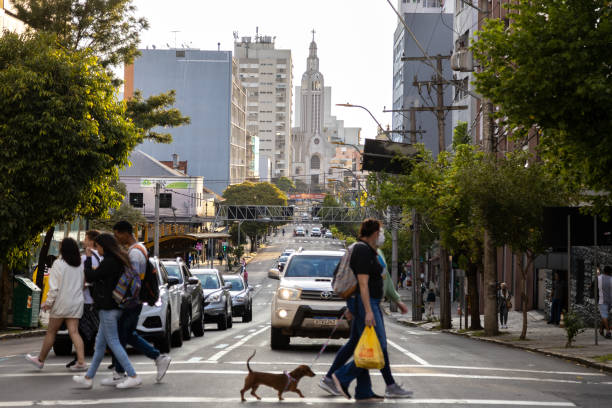kopek: (225, 338, 317, 408)
yaya: (78, 205, 180, 395), (327, 204, 424, 397), (23, 234, 94, 373)
